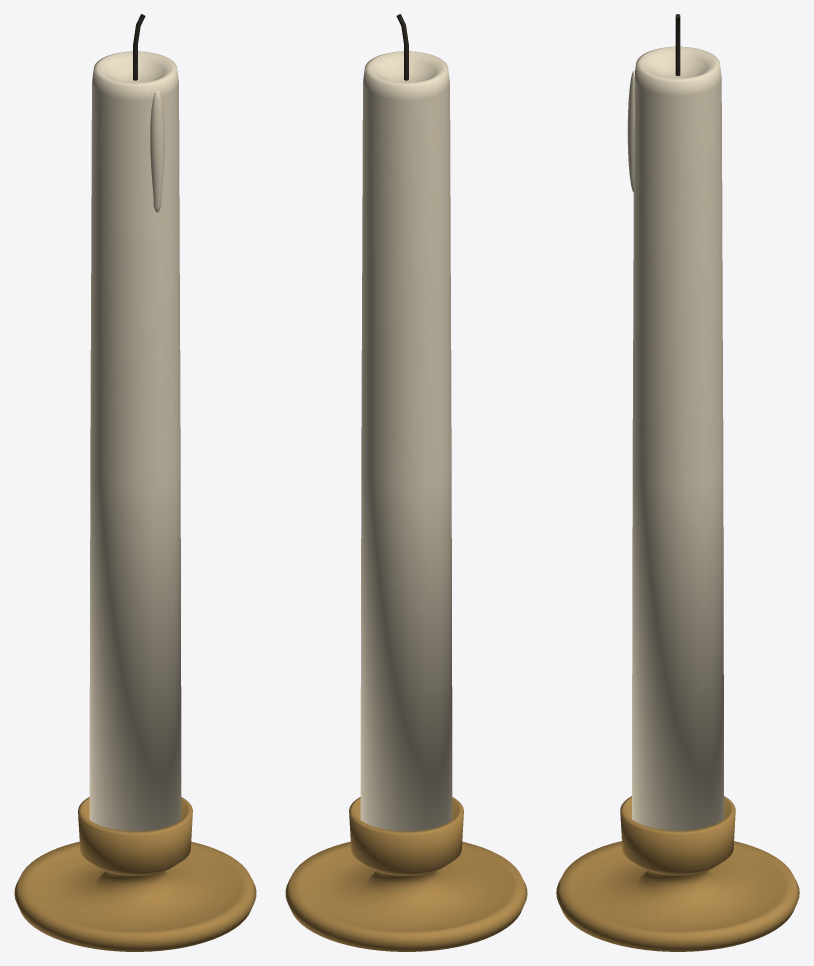
File: w51candle.glb
The picture shows the model from 3 angles, left to right: view 1: azimuth 30°, elevation 25°; view 2: azimuth 150°, elevation 25°; view 3: azimuth 270°, elevation 25°; orthographic projection.
Visible parts, largest first — view 1: candle; view 2: candle; view 3: candle.
Boxes of the visible parts, box(x1,y1,x2,y2) form: candle: box(14, 14, 256, 951); candle: box(285, 14, 527, 951); candle: box(556, 14, 799, 951).
Size of the model in its own units: 0.059 by 0.24 by 0.059.
Materials: 1 (1 with a texture image).
